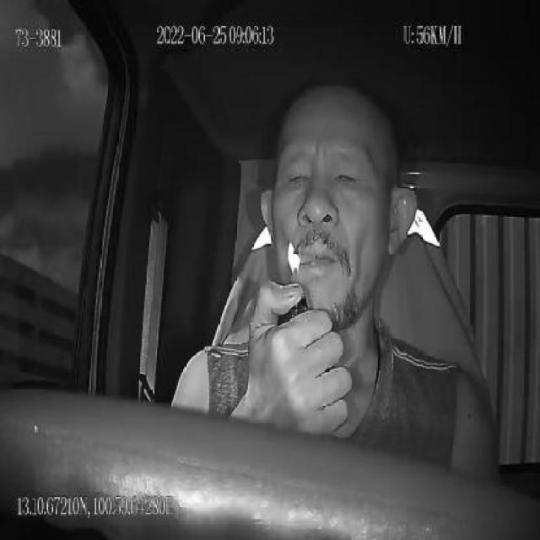smoking: (291, 250, 315, 269)
